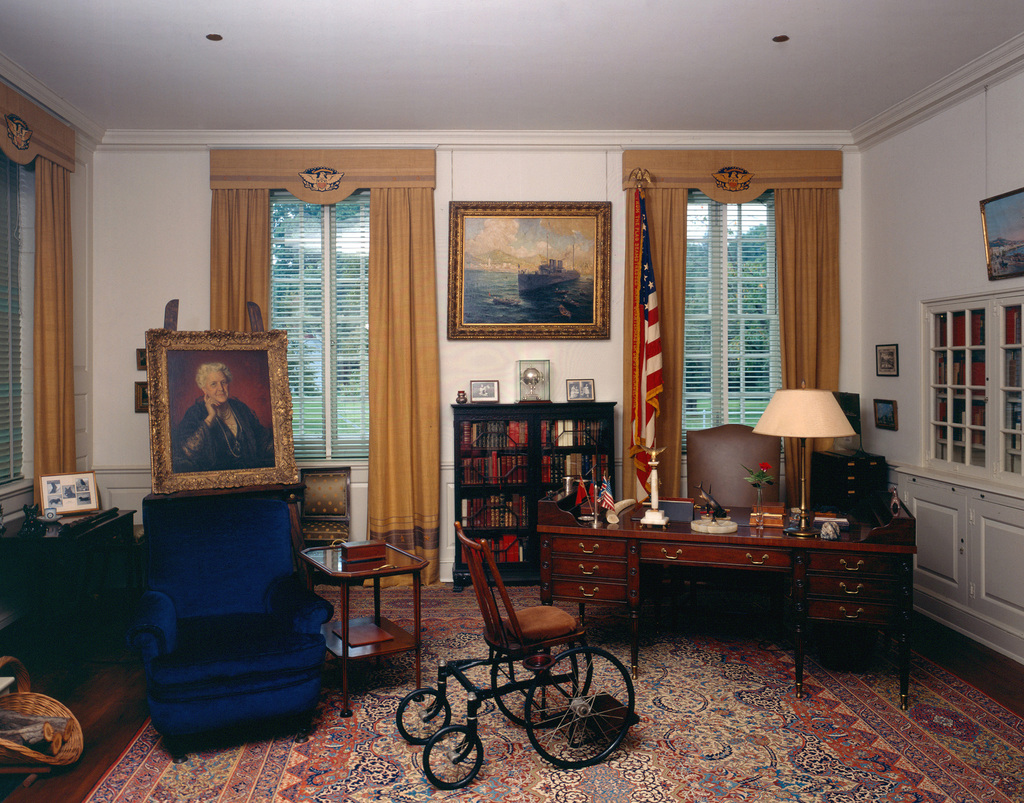Cabinetry: (899, 467, 1023, 668), (921, 295, 1023, 487), (805, 551, 904, 629), (543, 542, 628, 610), (630, 540, 800, 570)
